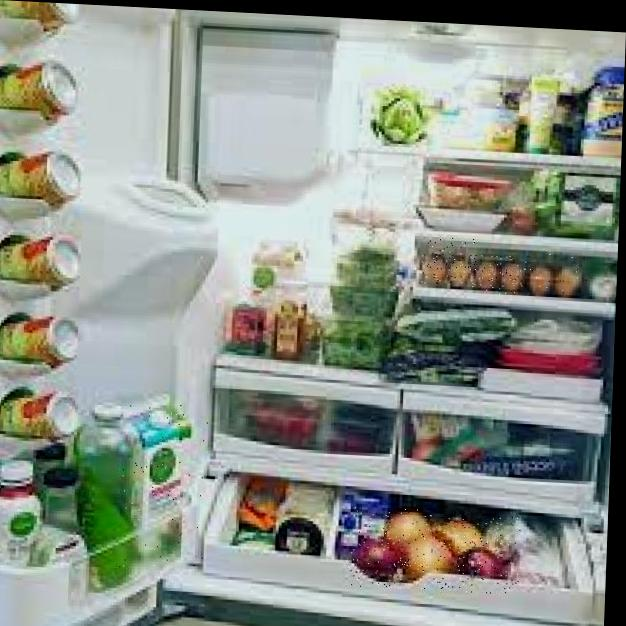eggs: (422, 236, 478, 287), (527, 253, 588, 299), (478, 253, 528, 296)
milk: (117, 400, 209, 575)
onion: (351, 506, 521, 595)
